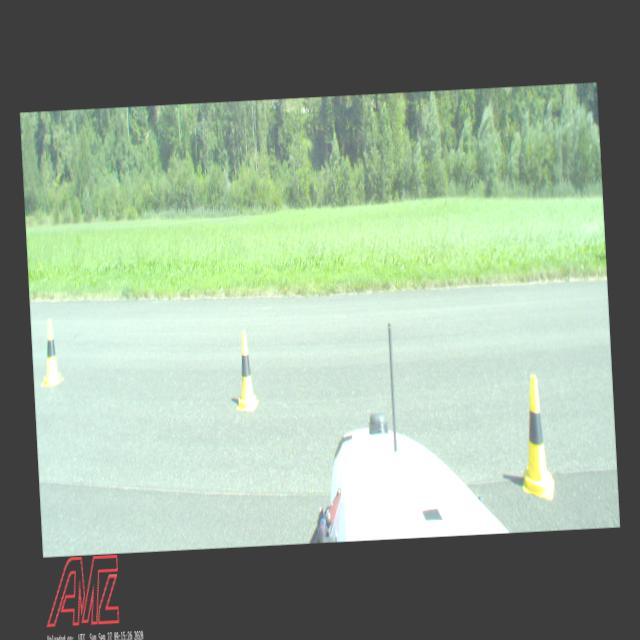yellow_cone: (517, 374, 555, 501), (232, 331, 260, 412), (38, 318, 64, 386)
